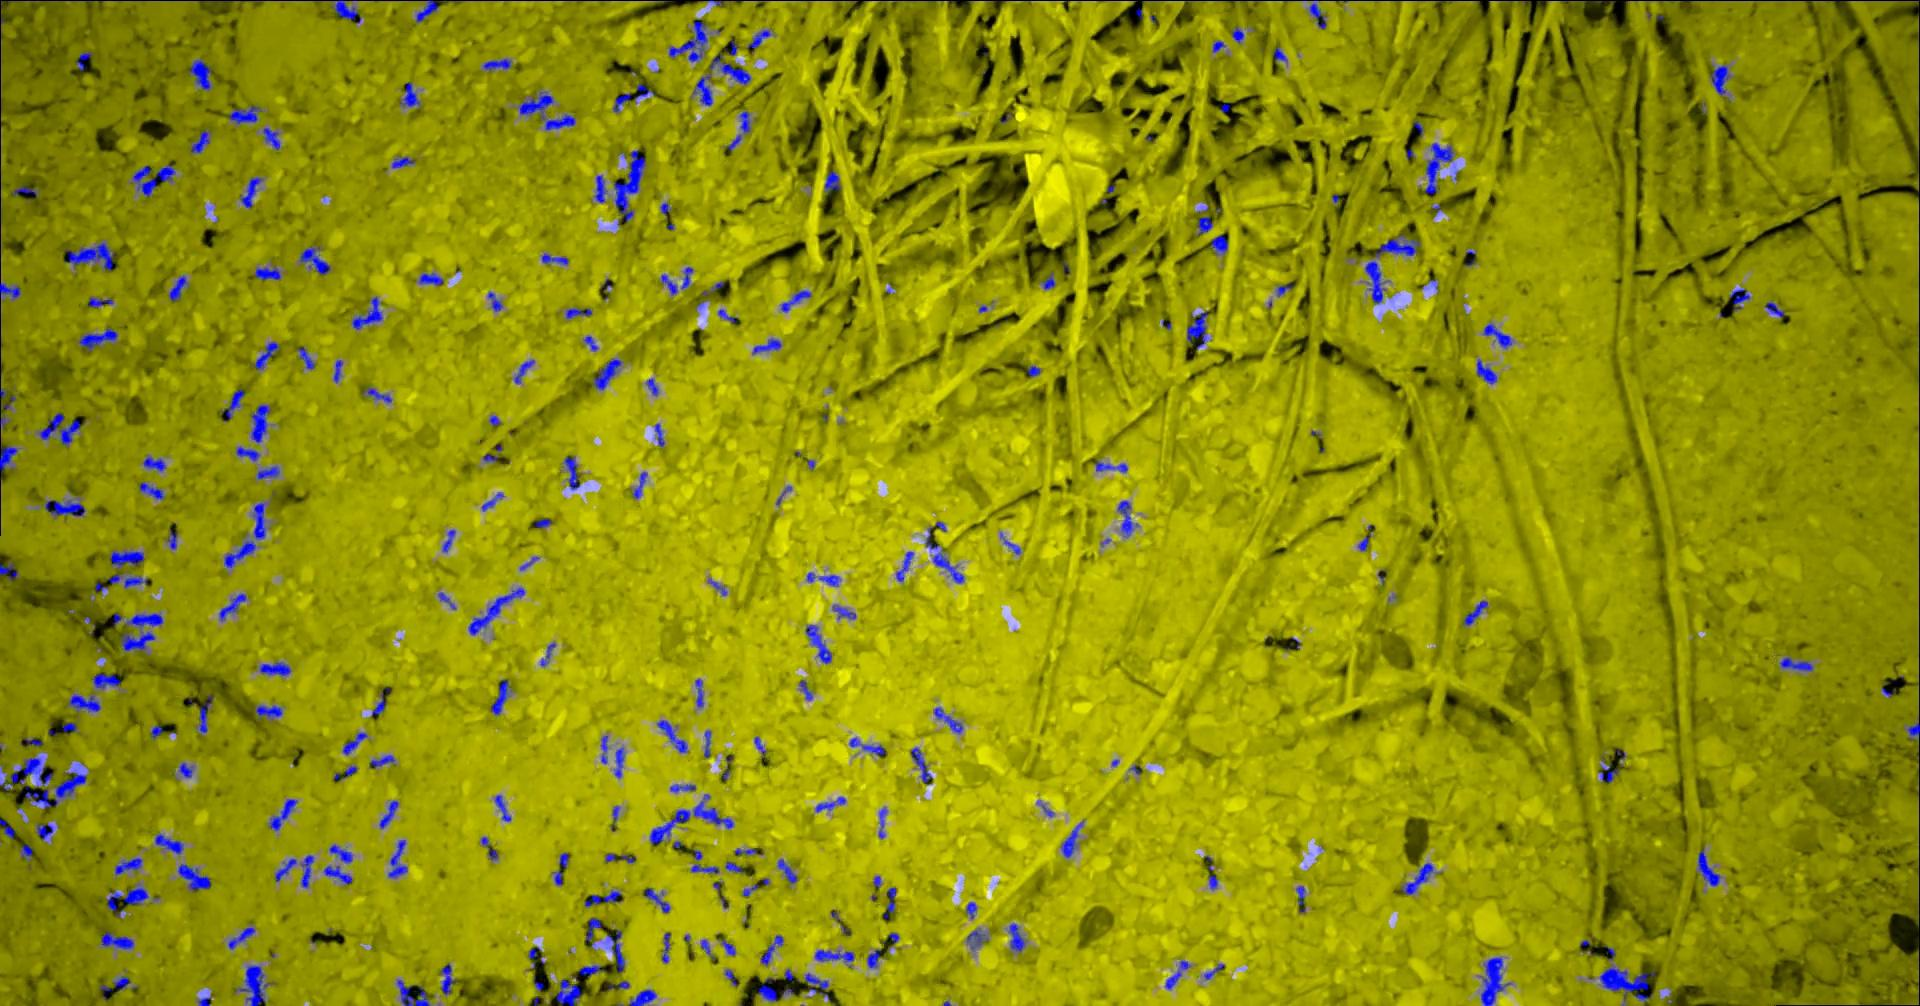ant: (651, 793, 735, 843), (695, 53, 752, 105), (225, 502, 267, 567), (470, 587, 526, 634), (615, 150, 648, 221), (521, 91, 577, 130), (1601, 967, 1656, 1002), (122, 612, 164, 652), (670, 18, 709, 61), (65, 241, 118, 271), (1426, 142, 1455, 193), (1482, 956, 1512, 1005), (41, 412, 83, 446), (133, 164, 177, 197), (237, 965, 270, 1005), (615, 83, 657, 112), (108, 887, 150, 916), (417, 0, 463, 23), (658, 719, 690, 752), (1402, 862, 1435, 894), (1366, 260, 1390, 304), (1377, 234, 1421, 257), (353, 296, 383, 329), (808, 624, 833, 663), (80, 326, 119, 351), (935, 553, 965, 583), (662, 265, 695, 293), (179, 862, 212, 890), (594, 358, 623, 389), (300, 246, 331, 274), (270, 798, 298, 829), (1699, 848, 1722, 887), (397, 979, 430, 1005), (1189, 311, 1210, 349), (912, 747, 935, 782), (1063, 821, 1084, 857), (1166, 960, 1192, 989), (251, 404, 272, 442), (389, 840, 409, 876), (220, 593, 248, 620), (935, 708, 964, 733), (241, 177, 265, 207), (190, 58, 213, 90), (223, 389, 246, 420), (1119, 500, 1139, 536), (610, 929, 626, 972), (1484, 323, 1512, 348), (255, 340, 281, 368), (557, 976, 582, 1005), (817, 949, 856, 967), (491, 680, 512, 714), (1710, 64, 1732, 95), (644, 887, 670, 912), (692, 848, 720, 873), (46, 499, 86, 516), (782, 290, 811, 312), (762, 935, 783, 965), (851, 737, 888, 754), (1464, 600, 1490, 625), (69, 694, 102, 713), (110, 550, 145, 568), (808, 972, 830, 998), (229, 927, 257, 949), (1, 387, 17, 427), (156, 833, 185, 854), (230, 105, 263, 123), (552, 852, 570, 885), (337, 0, 362, 23), (344, 732, 370, 754), (1, 439, 19, 471), (585, 890, 622, 906), (897, 551, 916, 580), (276, 857, 298, 882), (109, 573, 149, 587), (565, 456, 582, 489), (102, 932, 135, 949), (201, 695, 215, 733), (381, 800, 400, 828), (325, 865, 354, 883), (1478, 358, 1498, 384), (778, 857, 799, 883), (442, 964, 458, 995), (1310, 0, 1328, 28), (516, 359, 536, 384), (587, 917, 603, 946), (808, 572, 842, 586), (140, 481, 166, 499), (1001, 532, 1022, 554), (968, 927, 989, 949), (192, 130, 212, 152), (1782, 655, 1815, 669), (94, 672, 122, 688), (257, 704, 284, 720), (116, 857, 143, 874), (1010, 923, 1026, 951), (749, 29, 773, 48), (759, 977, 778, 1001), (170, 274, 188, 300), (754, 338, 783, 353), (632, 471, 649, 498), (1731, 288, 1751, 310), (403, 83, 422, 105), (483, 492, 505, 511), (331, 843, 354, 862), (298, 345, 316, 370), (364, 386, 392, 401), (817, 796, 847, 810), (630, 989, 658, 1005), (825, 170, 842, 196), (302, 854, 315, 887), (497, 794, 512, 821), (884, 887, 897, 918), (262, 662, 292, 674), (483, 836, 499, 859), (596, 175, 610, 202), (484, 58, 513, 71), (143, 456, 168, 471), (542, 641, 557, 666), (1097, 461, 1129, 473), (1600, 765, 1620, 782), (264, 127, 281, 149), (257, 265, 282, 279), (371, 754, 396, 768), (373, 691, 389, 714), (615, 747, 626, 777), (335, 765, 358, 780), (1211, 234, 1229, 253), (1, 561, 19, 580), (237, 446, 262, 460), (1, 282, 22, 298), (1766, 301, 1787, 318), (1205, 963, 1225, 979), (258, 465, 281, 479), (834, 605, 857, 619), (719, 937, 737, 955), (709, 578, 728, 594), (489, 291, 504, 311), (1, 818, 17, 838), (420, 272, 444, 285), (543, 253, 570, 264), (702, 939, 716, 960), (38, 822, 55, 840), (77, 51, 93, 70), (1199, 215, 1214, 234), (444, 528, 457, 551), (90, 296, 114, 307), (580, 965, 604, 977), (756, 735, 768, 757), (14, 185, 41, 196), (670, 782, 697, 793), (1297, 885, 1307, 912), (1043, 271, 1057, 290), (869, 948, 883, 967), (696, 678, 705, 708), (663, 932, 672, 962), (568, 307, 593, 318), (530, 948, 542, 968), (719, 309, 737, 323), (392, 156, 417, 166), (801, 680, 814, 699), (880, 807, 888, 838), (1274, 46, 1289, 61), (742, 111, 752, 133), (180, 762, 196, 777), (116, 976, 131, 991), (700, 0, 744, 5), (1277, 283, 1295, 296), (726, 861, 745, 873), (585, 335, 599, 351), (705, 729, 712, 757), (602, 735, 610, 763), (648, 379, 660, 395), (169, 528, 179, 549), (1233, 25, 1244, 43), (335, 359, 344, 382), (657, 423, 665, 446), (1909, 721, 1920, 739), (608, 981, 631, 989), (968, 901, 978, 918), (22, 843, 34, 857), (25, 737, 44, 746), (1029, 365, 1041, 377), (63, 721, 79, 732), (536, 518, 552, 527), (152, 725, 164, 738), (737, 848, 758, 855)
